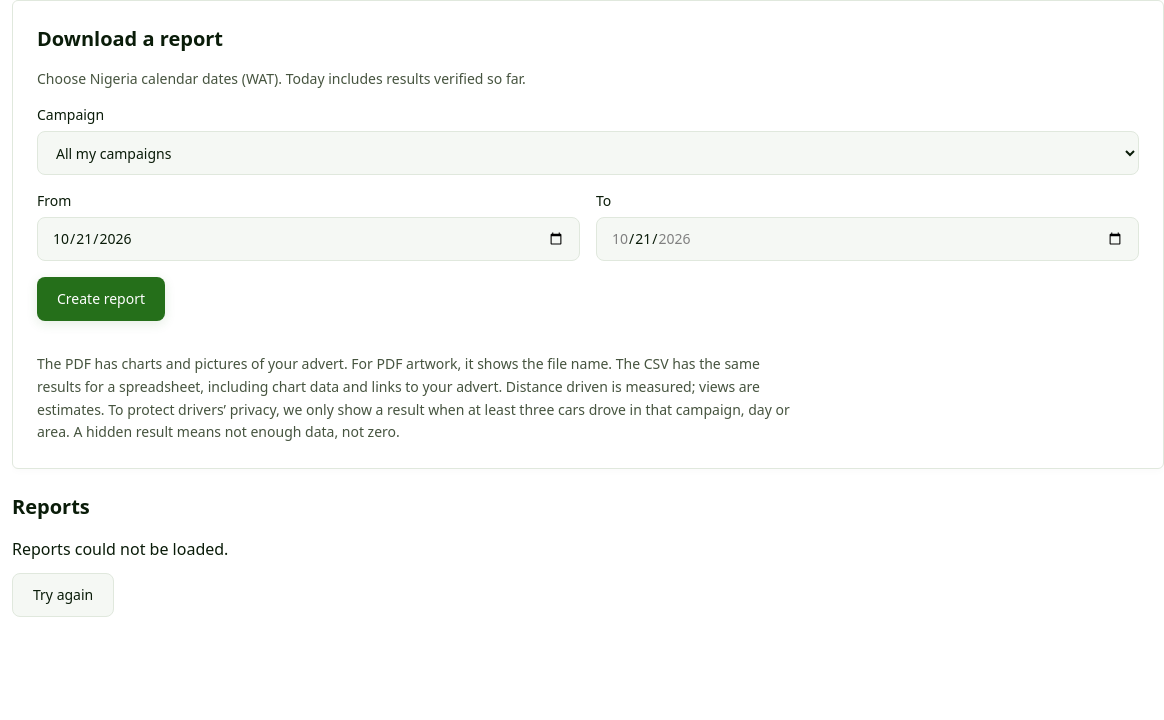
Test: has a retry state when the report list is unavailable
Expected: the text "Reports could not be loaded." is shown, [12,538,228,560]
Click the button "Try again": (63, 595) [12,573,114,617]
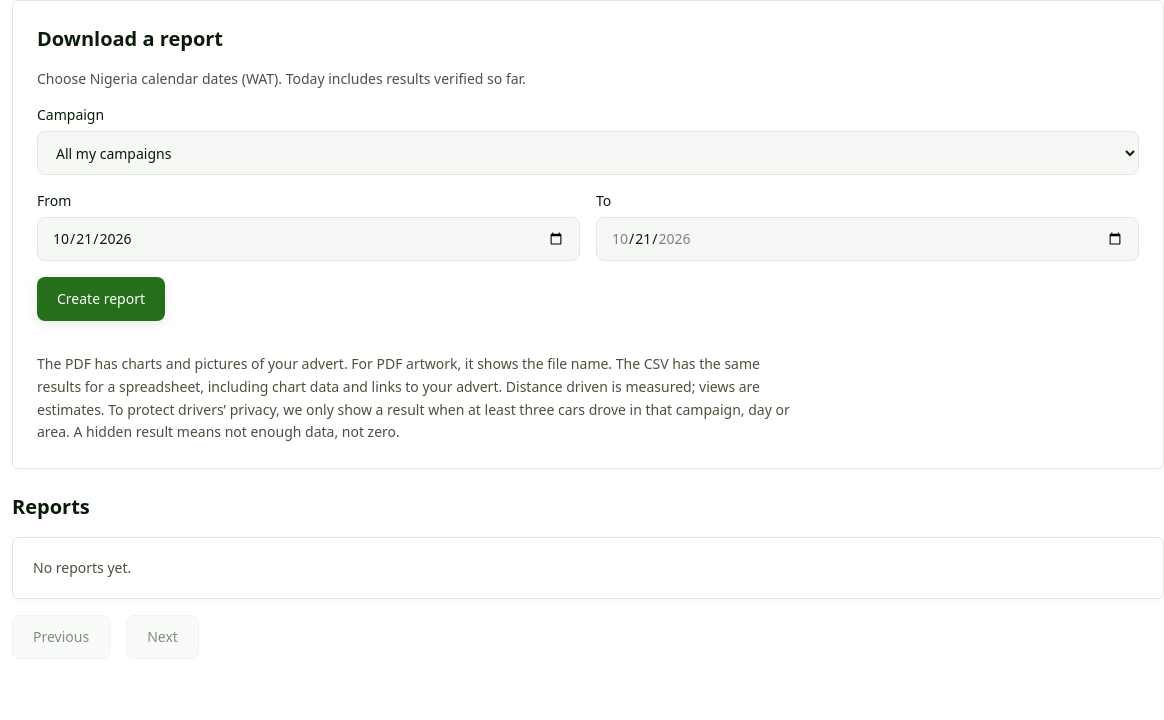
Expected: the text "No reports yet." is shown, [12,537,1163,599]
